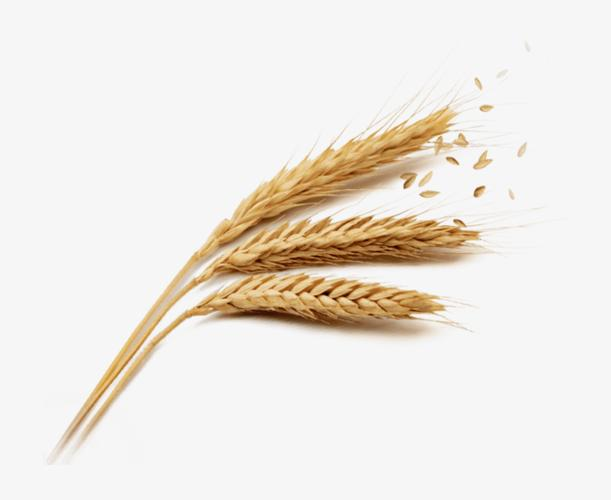wheat: (204, 104, 460, 239), (123, 269, 464, 357), (193, 207, 489, 278)
